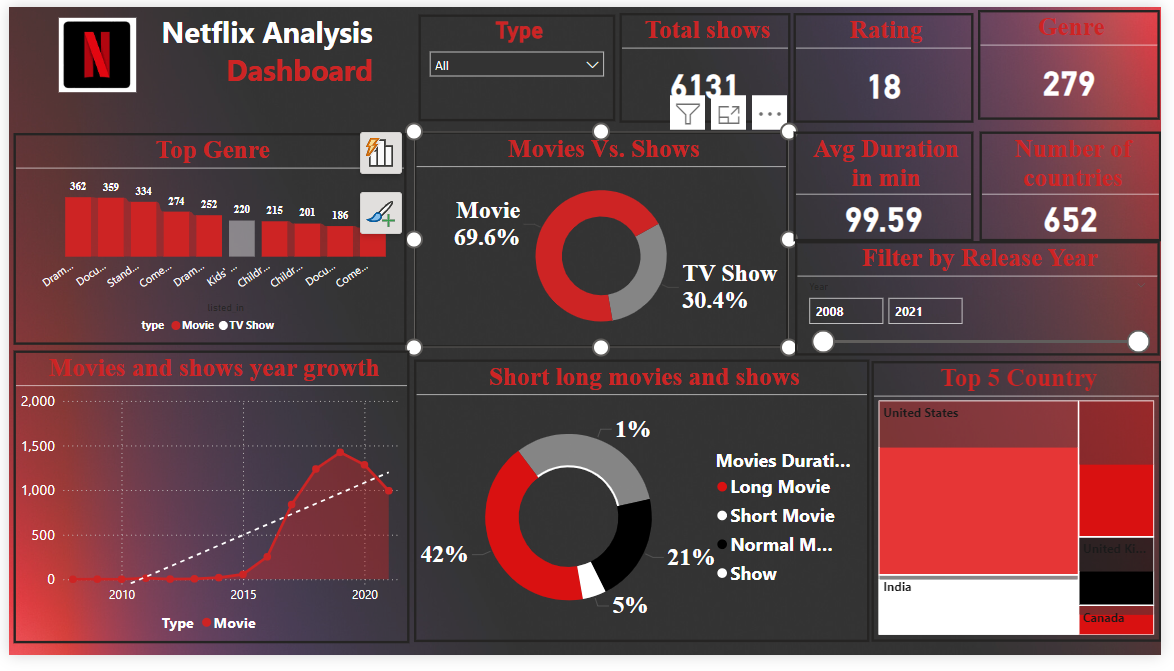

The page's visual inventory and layout, read from the dashboard file:
{"tool":"powerbi","page":{"name":"Page 1","canvas":[1280,720],"ordinal":0},"visuals":[{"type":"textbox","box":[0,0,409.1,99.2],"z":0,"group":"g1"},{"type":"slicer","title":"Type","fields":{"Values":["netflix_titles.type"]},"box":[455,8.3,218.3,118.3],"z":0},{"type":"card","title":"Total shows ","fields":{"Values":["CountNonNull(netflix_titles.show_id)"]},"box":[678,6,190,122],"z":1000},{"type":"image","box":[42.5,6.1,109.4,93.2],"z":1000,"group":"g1"},{"type":"group","id":"g1","title":"Group 1","box":[0,0,409.1,99.2],"z":2000},{"type":"card","title":"Rating ","fields":{"Values":["Count(netflix_titles.rating)"]},"box":[872,6,200,122],"z":3000},{"type":"card","title":"Genre","fields":{"Values":["Count(netflix_titles.listed_in)"]},"box":[1076,4,202,122],"z":4000},{"type":"card","title":"Number of countries ","fields":{"Values":["Count(netflix_titles.country)"]},"box":[1078,138,202,122],"z":5000},{"type":"donutChart","title":"Movies Vs. Shows","fields":{"Category":["netflix_titles.type"],"Y":["CountNonNull(netflix_titles.title)"]},"box":[450,138,416,240],"z":6000},{"type":"areaChart","title":"Movies and shows year growth","fields":{"Category":["netflix_titles.date_added.Variation.Date Hierarchy.Year","netflix_titles.date_added.Variation.Date Hierarchy.Quarter","netflix_titles.date_added.Variation.Date Hierarchy.Month","netflix_titles.date_added.Variation.Date Hierarchy.Day"],"Y":["CountNonNull(netflix_titles.show_id)"],"Series":["netflix_titles.type"]},"box":[5,381.7,440,325],"z":7000},{"type":"card","title":"Avg Duration in min","fields":{"Values":["Avg(netflix_titles.Duration in numbers)"]},"box":[872,138,200,122],"z":8000},{"type":"columnChart","title":"Top Genre","fields":{"Category":["netflix_titles.listed_in"],"Y":["CountNonNull(netflix_titles.Index)"],"Series":["netflix_titles.type"]},"box":[5,140,436.7,235],"z":9000},{"type":"donutChart","title":"Short long movies and shows","fields":{"Category":["netflix_titles.Movies Duration"],"Y":["CountNonNull(netflix_titles.Movies Duration)"]},"box":[449.6,390.9,506.3,313.9],"z":9001},{"type":"slicer","title":"Filter by Release Year","fields":{"Values":["netflix_titles.date_added.Variation.Date Hierarchy.Year"]},"box":[872.9,259.2,405.1,127.6],"z":9002},{"type":"treemap","title":"Top 5 Country","fields":{"Group":["netflix_titles.country"],"Values":["CountNonNull(netflix_titles.Index)"]},"box":[958,392.9,322,311.9],"z":9003}]}

Visuals, with their boxes in screenshot pixels (x1, y1, x2, y2), scaled from the page's 1280x720 canvas onto the 1174x671 screenshot:
textbox: [0, 0, 375, 92]
"Type" slicer: [417, 8, 618, 118]
"Total shows " card: [622, 6, 796, 119]
image: [39, 6, 139, 93]
"Group 1" group: [0, 0, 375, 92]
"Rating " card: [800, 6, 983, 119]
"Genre" card: [987, 4, 1172, 117]
"Number of countries " card: [989, 129, 1173, 242]
"Movies Vs. Shows" donutChart: [413, 129, 794, 352]
"Movies and shows year growth" areaChart: [5, 356, 408, 659]
"Avg Duration in min" card: [800, 129, 983, 242]
"Top Genre" columnChart: [5, 130, 405, 349]
"Short long movies and shows" donutChart: [412, 364, 877, 657]
"Filter by Release Year" slicer: [801, 242, 1172, 360]
"Top 5 Country" treemap: [879, 366, 1173, 657]
